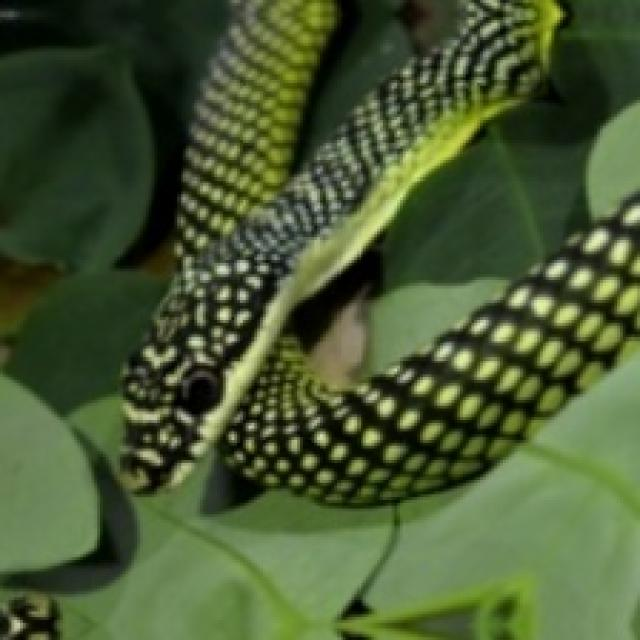paradise tree snake: (120, 0, 637, 503)
